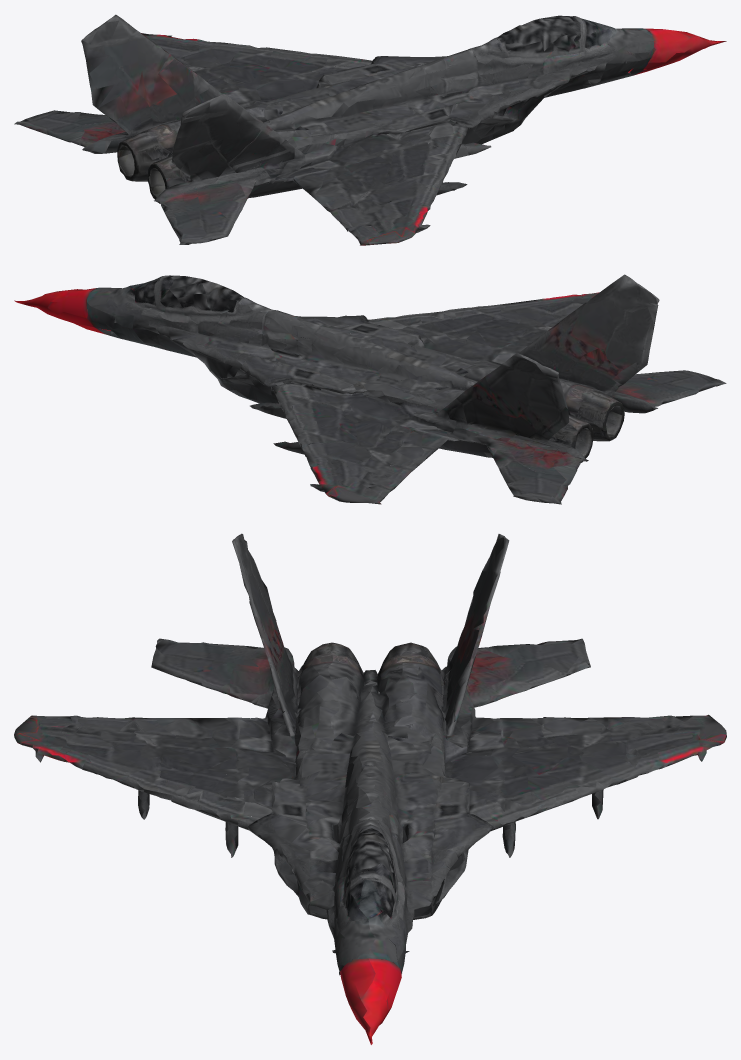
File: fh_battle_e_rival.glb
3 views of the same model, one above another, from view 1: azimuth 30°, elevation 25°; view 2: azimuth 150°, elevation 25°; view 3: azimuth 270°, elevation 25° (orthographic). The views are drawn at different scales.
Visible parts, largest first — view 1: GLTF; view 2: GLTF; view 3: GLTF.
Boxes of the visible parts, box(x1,y1,x2,y2) form: GLTF: box(14, 14, 726, 245); GLTF: box(14, 274, 726, 504); GLTF: box(14, 533, 726, 1044).
Size of the model in its own units: 1 by 0.2195 by 0.7654.
Materials: 1 (1 with a texture image).
